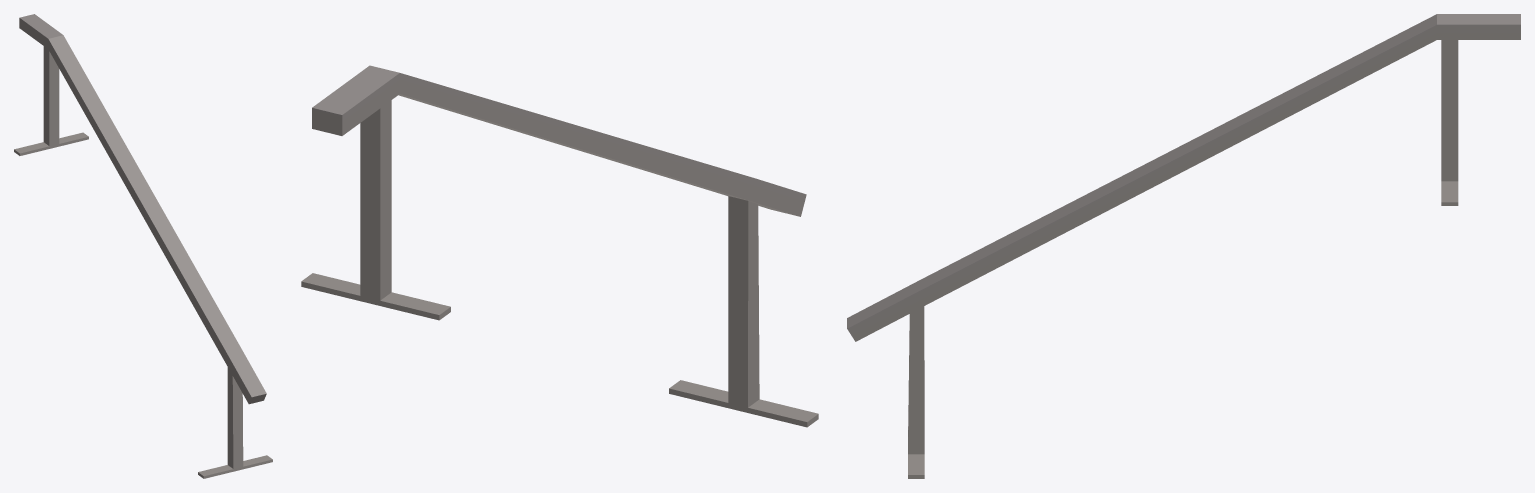
Rendered from SkateboardHandrail.glb.
3 views of the same model, side by side, from view 1: azimuth 30°, elevation 25°; view 2: azimuth 150°, elevation 25°; view 3: azimuth 270°, elevation 25° (orthographic). The views are drawn at different scales.
Visible parts, largest first — view 1: SkateboardHandrail; view 2: SkateboardHandrail; view 3: SkateboardHandrail.
Boxes of the visible parts, bbox=[...] form: SkateboardHandrail: bbox=[14, 14, 272, 478]; SkateboardHandrail: bbox=[301, 65, 818, 427]; SkateboardHandrail: bbox=[847, 14, 1520, 478].
Size of the model in its own units: 0.6852 by 2.84 by 3.99.
Materials: 1 (1 with a texture image).
